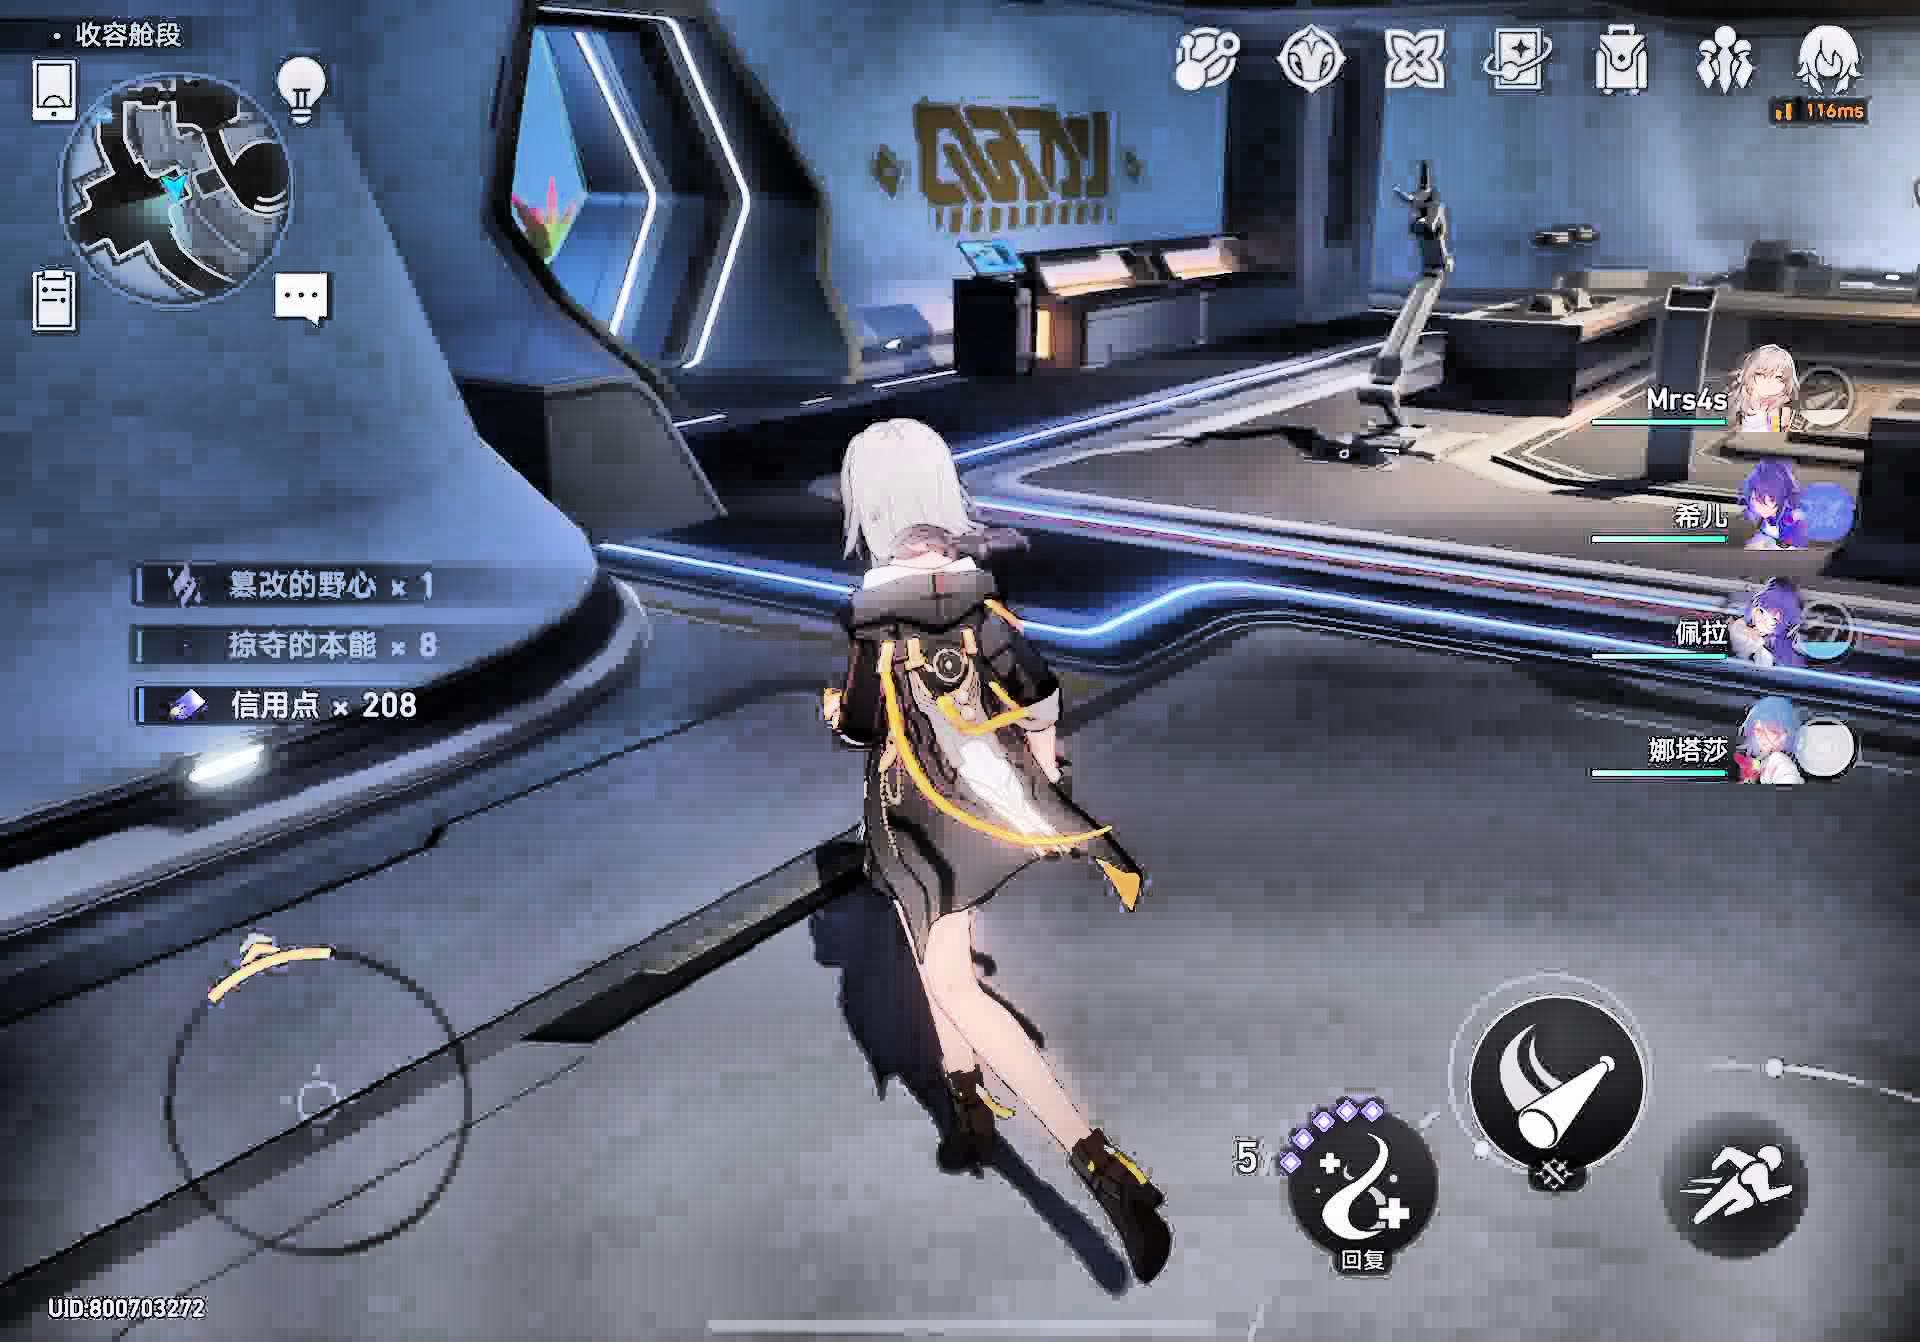Self: (829, 424, 1199, 1284)
